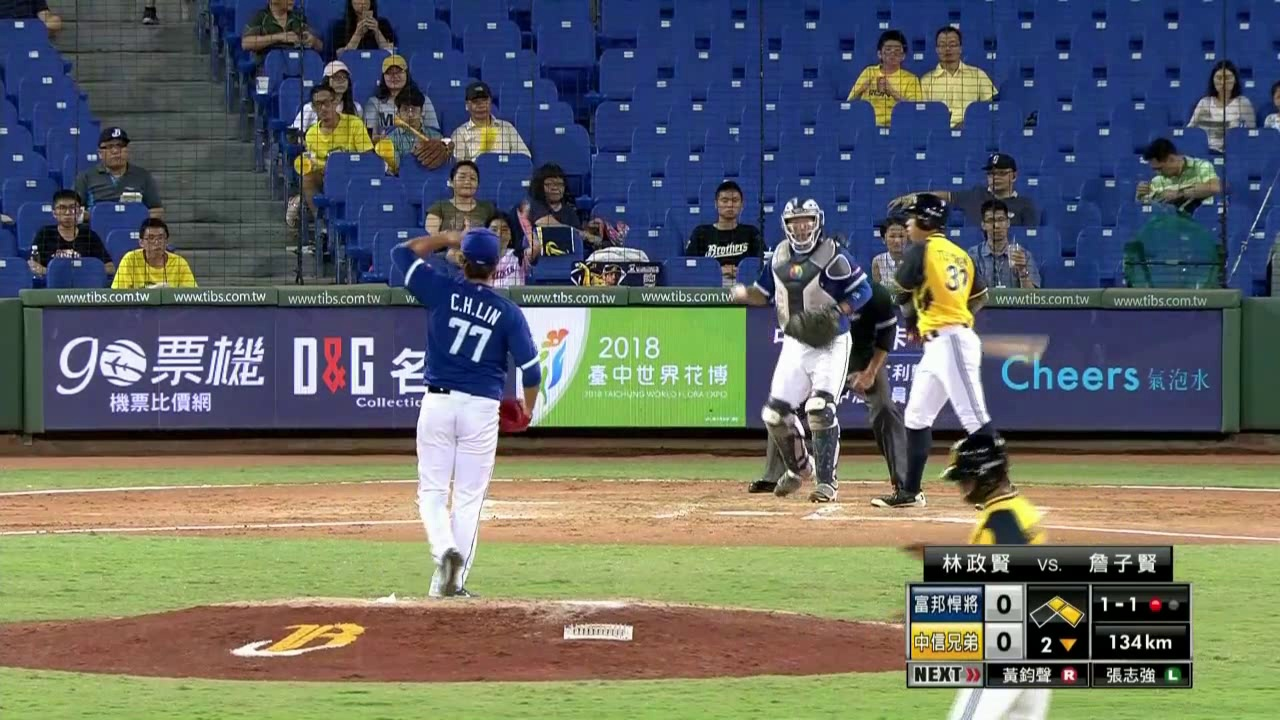ball: (730, 282, 746, 299)
base: (1031, 588, 1086, 627)
bat: (973, 328, 1053, 368)
out: (1147, 589, 1188, 617)
score1: (985, 586, 1021, 620)
score2: (986, 624, 1023, 658)
session: (1028, 626, 1085, 658)
speed: (1093, 628, 1188, 657)
strikeball: (1094, 590, 1142, 623)
